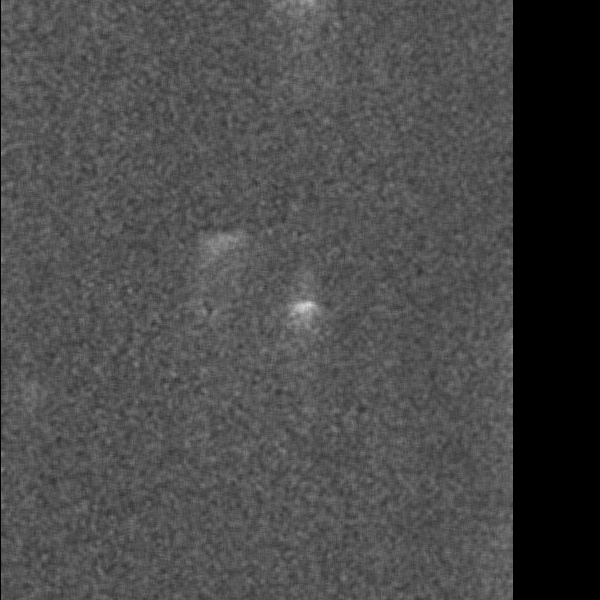spark: (14, 362, 64, 388)
